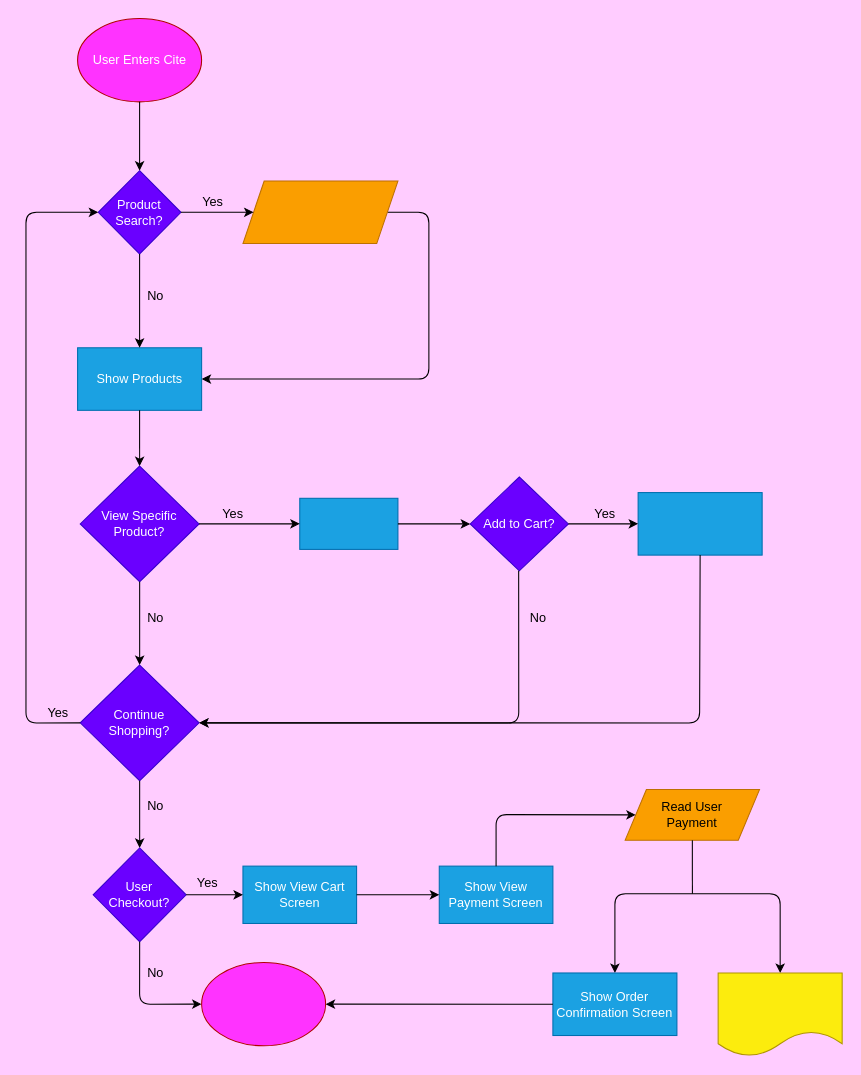
Some shapes in this 861 by 1075 pixel diagram are drawn without their labels. Each missing label, with the box of its shape:
Read User Search: (242, 180, 398, 244)
Send User Purchase Confirmation Email: (717, 972, 842, 1056)
Show Cart Confirmation: (637, 492, 762, 555)
Show Product Page: (299, 497, 398, 549)
User Leaves Cite: (201, 961, 326, 1046)
